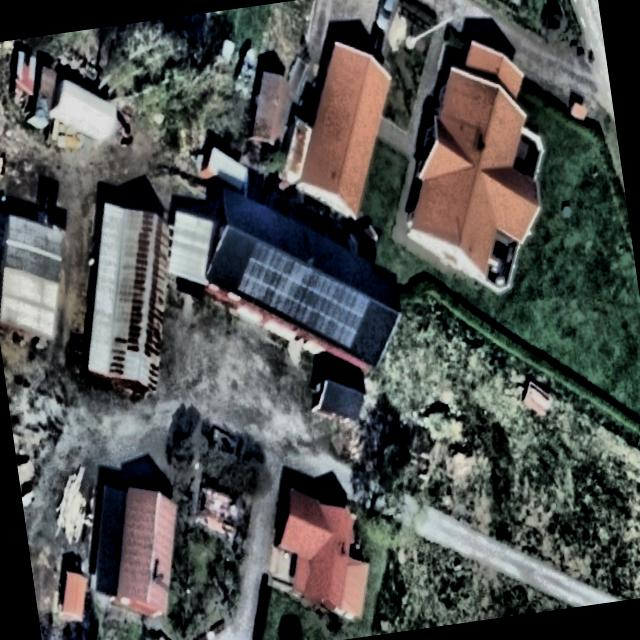roof_pv: (286, 255, 376, 359), (230, 234, 306, 319)
